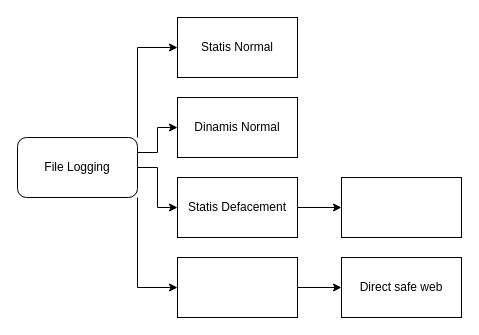
Image size: 479x335. Some labels were removed from this diagram. Here are the shapes that lost their labels. From the top down, the box of each, then its label:
(340, 176, 462, 238): Restore Website
(176, 256, 298, 318): Dinamis Defacement
